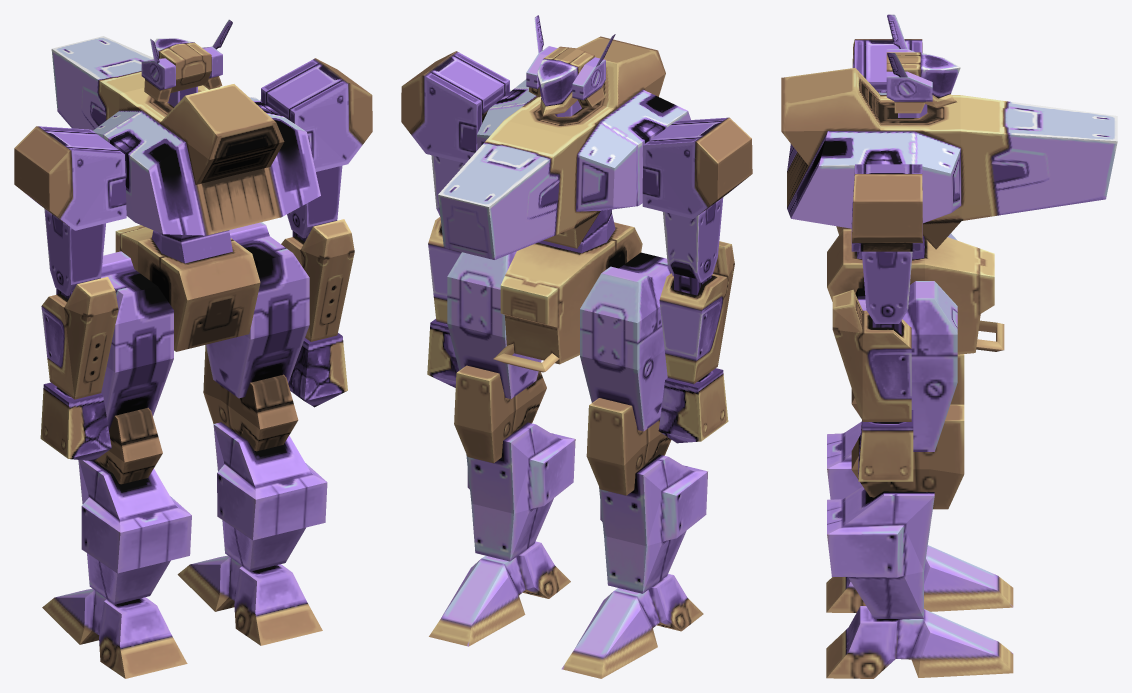
The model's file is player.fbx.
3 renders of one model, left to right at view 1: azimuth 30°, elevation 25°; view 2: azimuth 150°, elevation 25°; view 3: azimuth 270°, elevation 25°, orthographic. The views are drawn at different scales.
Parts seen in each view (by area): view 1: Cube; view 2: Cube; view 3: Cube.
Boxes of the visible parts, x1,y1,x2,y2 form: Cube: (14,19,372,678); Cube: (401,15,752,678); Cube: (781,14,1117,678).
Bounding box in the file's own units: 616 × 1096 × 559.
Materials: 4 (4 with a texture image).
